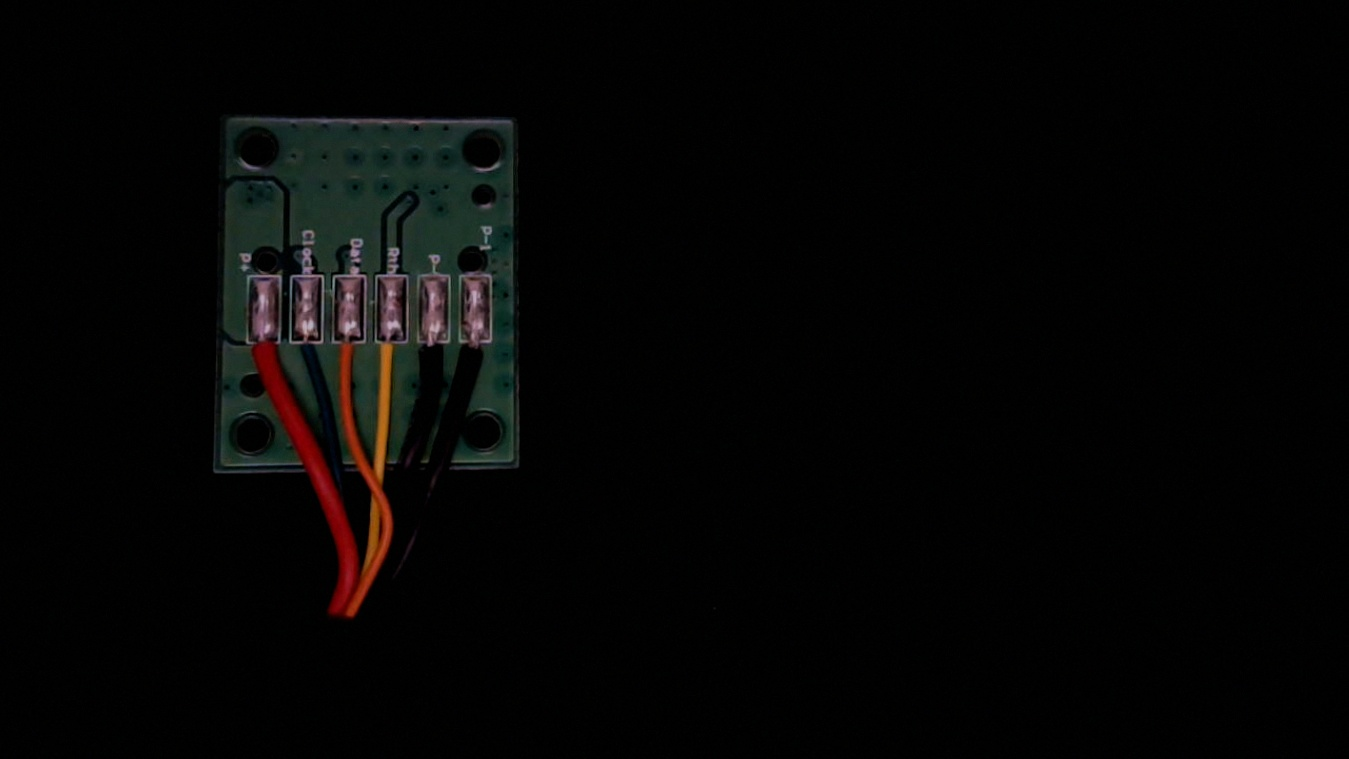Black: (414, 316, 452, 395)
Black1: (456, 318, 492, 390)
Green: (289, 316, 326, 392)
Orange: (331, 317, 366, 395)
Red: (243, 316, 281, 392)
Yellow: (371, 316, 409, 396)
